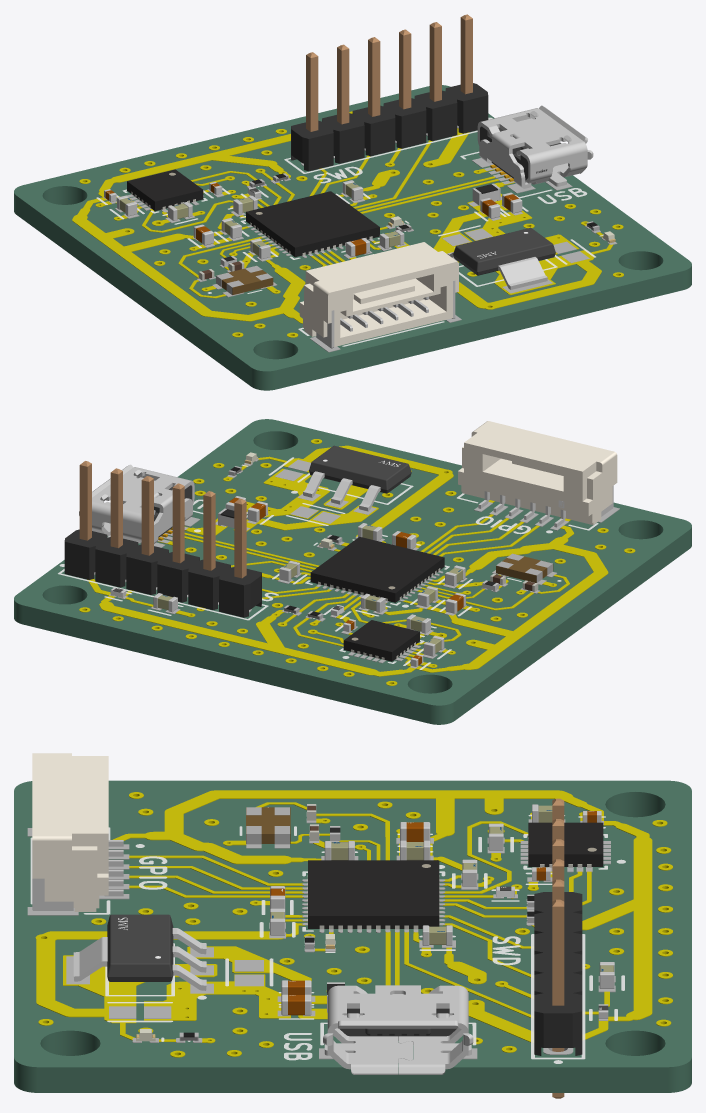
File: stm32-board-copper.glb
The picture shows the model from 3 angles, top to bottom: view 1: azimuth 30°, elevation 25°; view 2: azimuth 150°, elevation 25°; view 3: azimuth 270°, elevation 25°; orthographic projection. The views are drawn at different scales.
Parts seen in each view (by area): view 1: =>[0:1:1:27], =>[0:1:1:23], SM06B-GHS-TB:1, J2, 473460001:1, 6130xx11121_PIN (×6), U2, 1:1 (×2), =>[0:1:1:24], =>[0:1:1:26], U3, =>[0:1:1:4] (+2 smaller); view 2: =>[0:1:1:27], =>[0:1:1:23], SM06B-GHS-TB:1, J2, 6130xx11121_PIN (×6), U2, 473460001:1, =>[0:1:1:24], 1:1 (×2), =>[0:1:1:26], U3, Y1 (+2 smaller); view 3: =>[0:1:1:27], =>[0:1:1:23], SM06B-GHS-TB:1, 473460001:1, U2, J2, =>[0:1:1:24], =>[0:1:1:26], 1:1 (×2), U3, =>[0:1:1:4], Y1 (+4 smaller).
Part boxes in pixels (bbox=[...]): =>[0:1:1:27]: bbox=[14, 85, 691, 390]; =>[0:1:1:23]: bbox=[72, 111, 623, 337]; SM06B-GHS-TB:1: bbox=[299, 242, 458, 346]; J2: bbox=[291, 83, 488, 171]; 473460001:1: bbox=[477, 105, 593, 188]; 6130xx11121_PIN (×6): bbox=[306, 14, 472, 131]; U2: bbox=[246, 191, 379, 257]; 1:1 (×2): bbox=[340, 227, 555, 331]; =>[0:1:1:24]: bbox=[103, 125, 617, 352]; =>[0:1:1:26]: bbox=[96, 117, 603, 346]; U3: bbox=[127, 169, 203, 210]; =>[0:1:1:4]: bbox=[447, 252, 547, 289]; =>[0:1:1:27]: bbox=[14, 419, 691, 724]; =>[0:1:1:23]: bbox=[79, 439, 635, 685]; SM06B-GHS-TB:1: bbox=[458, 421, 617, 524]; J2: bbox=[64, 529, 261, 617]; 6130xx11121_PIN (×6): bbox=[79, 461, 246, 578]; U2: bbox=[310, 536, 444, 602]; 473460001:1: bbox=[79, 464, 194, 544]; =>[0:1:1:24]: bbox=[94, 458, 619, 668]; 1:1 (×2): bbox=[309, 445, 565, 527]; =>[0:1:1:26]: bbox=[58, 457, 598, 669]; U3: bbox=[343, 620, 419, 661]; Y1: bbox=[496, 553, 553, 582]; =>[0:1:1:27]: bbox=[14, 780, 691, 1092]; =>[0:1:1:23]: bbox=[35, 790, 673, 1057]; SM06B-GHS-TB:1: bbox=[32, 753, 108, 911]; 473460001:1: bbox=[323, 985, 473, 1074]; U2: bbox=[307, 860, 439, 929]; J2: bbox=[534, 892, 582, 1055]; =>[0:1:1:24]: bbox=[27, 812, 615, 1059]; =>[0:1:1:26]: bbox=[30, 807, 625, 1063]; 1:1 (×2): bbox=[104, 840, 173, 981]; U3: bbox=[528, 822, 603, 867]; =>[0:1:1:4]: bbox=[73, 928, 206, 990]; Y1: bbox=[246, 807, 290, 844].
Size of what is drawn, in the model's own units: 0.0369 by 0.0115 by 0.036.
